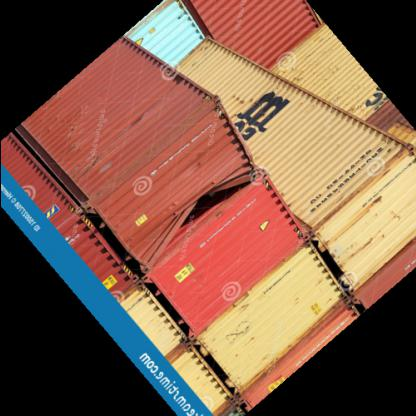Damage: (172, 174, 253, 252)
